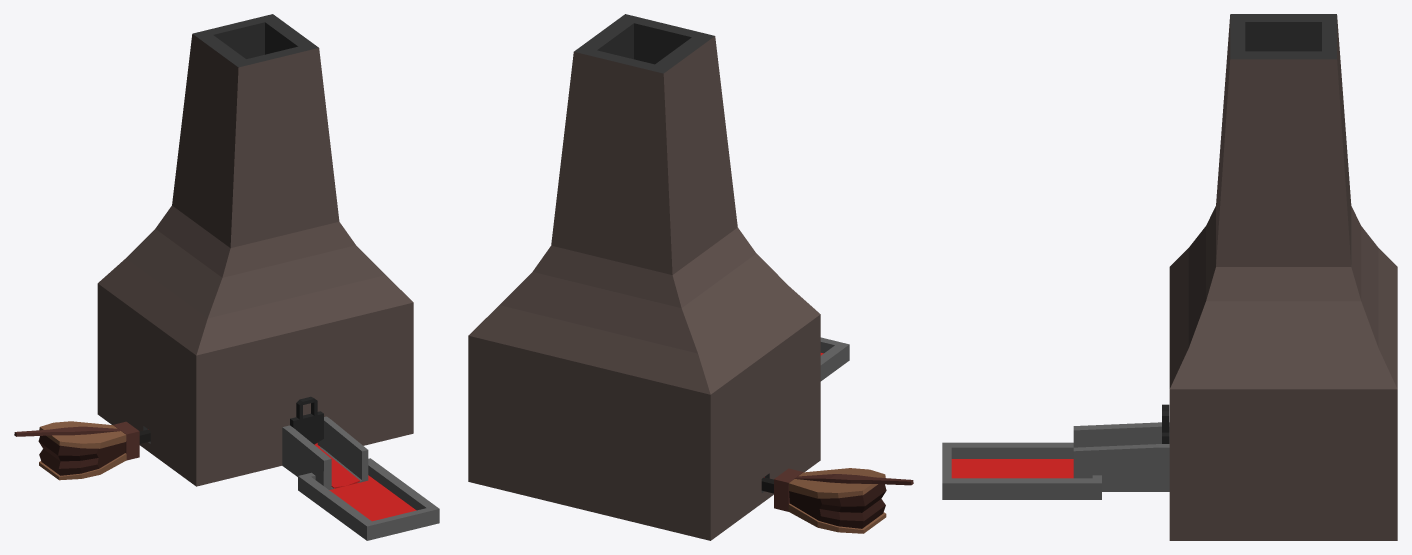
The model's file is iron_foundry_2_bellows.fbx.
3 renders of one model, left to right at view 1: azimuth 30°, elevation 25°; view 2: azimuth 150°, elevation 25°; view 3: azimuth 270°, elevation 25°, orthographic. The views are drawn at different scales.
Visible parts, largest first — view 1: Plane.002, Cube.007, Plane.004, Plane.001, Plane.003; view 2: Plane.002, Cube.007; view 3: Plane.002, Plane.004.
Part boxes in pixels (box(x1,y1,x2,y2)): Plane.002: box(97, 14, 439, 540); Cube.007: box(14, 421, 150, 480); Plane.004: box(329, 475, 416, 521); Plane.001: box(290, 396, 323, 444); Plane.003: box(314, 444, 359, 488); Plane.002: box(468, 14, 849, 540); Cube.007: box(761, 468, 913, 533); Plane.002: box(942, 14, 1397, 540); Plane.004: box(951, 459, 1073, 478).
Size of the model in its own units: 94.29 by 98.92 by 92.16.
